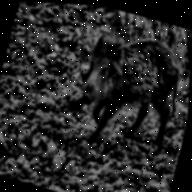boar: (65, 19, 191, 166)
